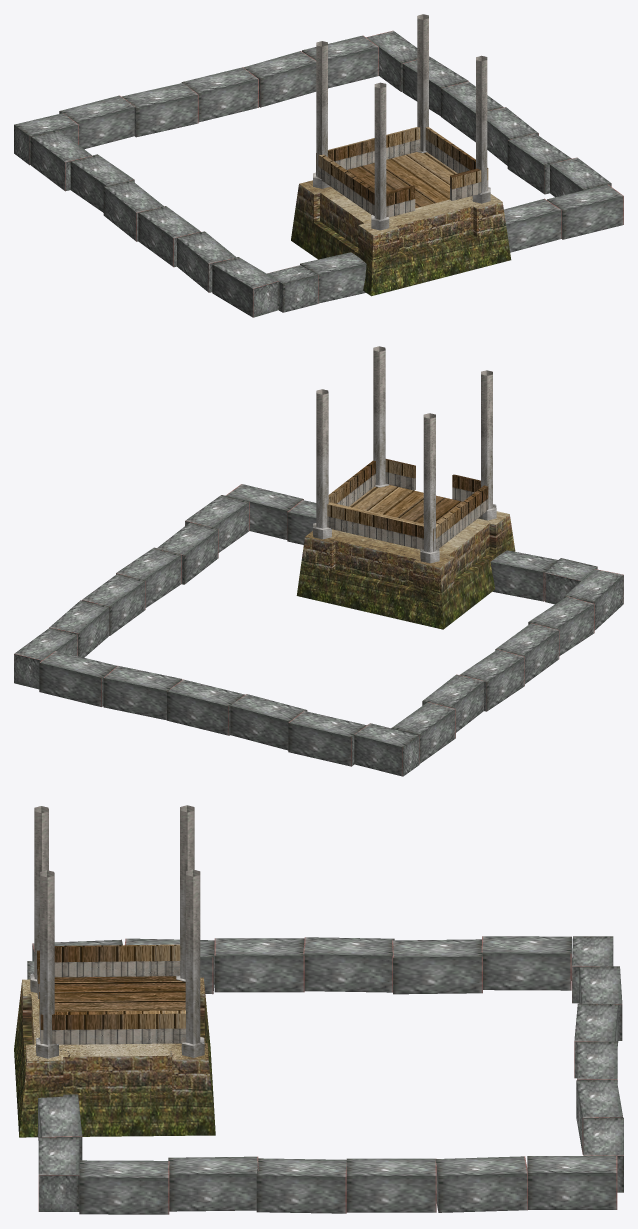
Rendered from chin_plot_rice.dae.
3 views of the same model, one above another, from view 1: azimuth 30°, elevation 25°; view 2: azimuth 150°, elevation 25°; view 3: azimuth 270°, elevation 25° (orthographic). The views are drawn at different scales.
Parts seen in each view (by area): view 1: paddycompiled; view 2: paddycompiled; view 3: paddycompiled.
Part boxes in pixels (x1,y1,x2,y2): paddycompiled: (14, 14, 623, 317); paddycompiled: (14, 346, 623, 776); paddycompiled: (14, 805, 623, 1214).
Size of the model in its own units: 21.47 by 22.88 by 10.61.
